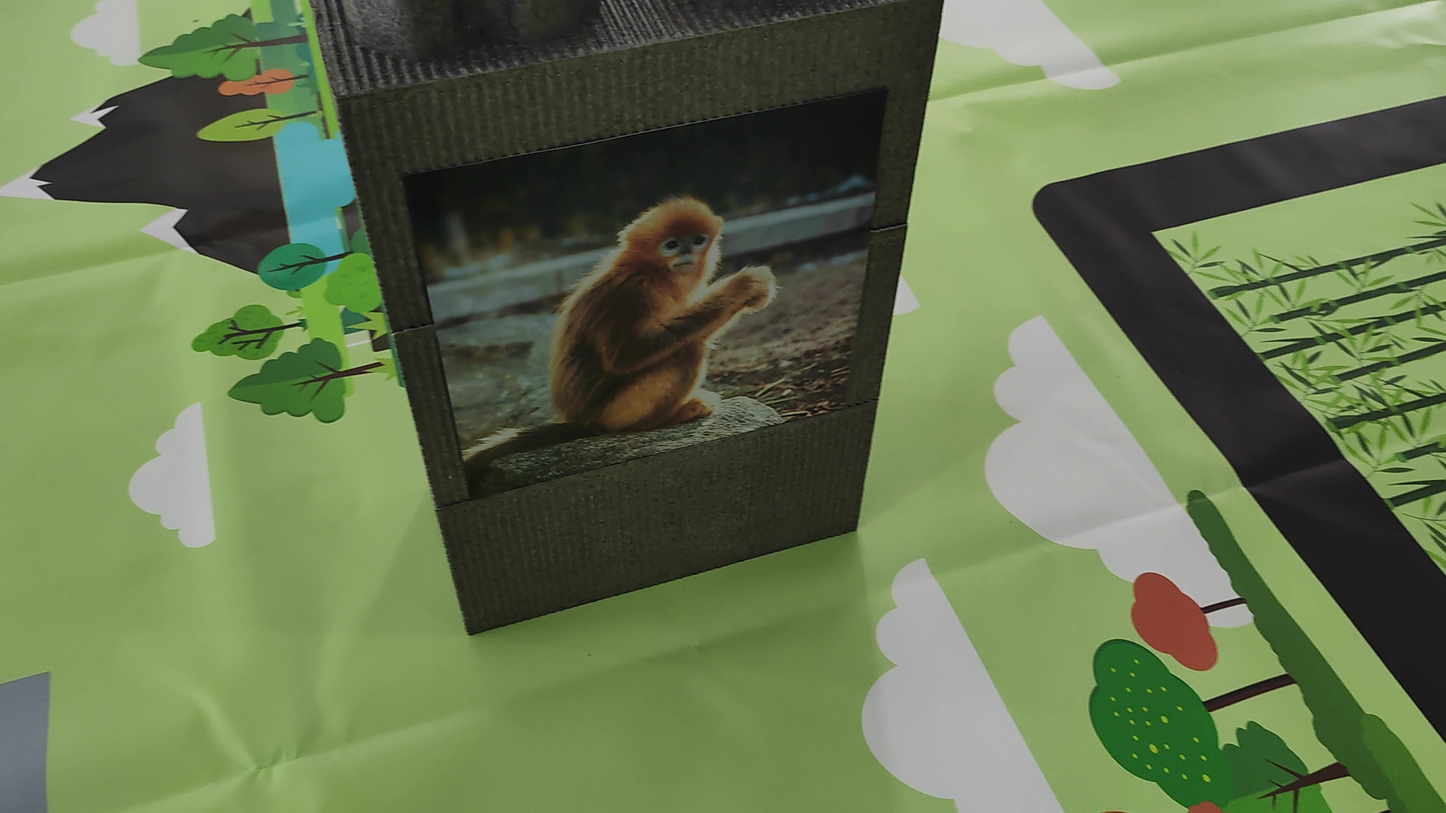monkey: (505, 174, 817, 449)
